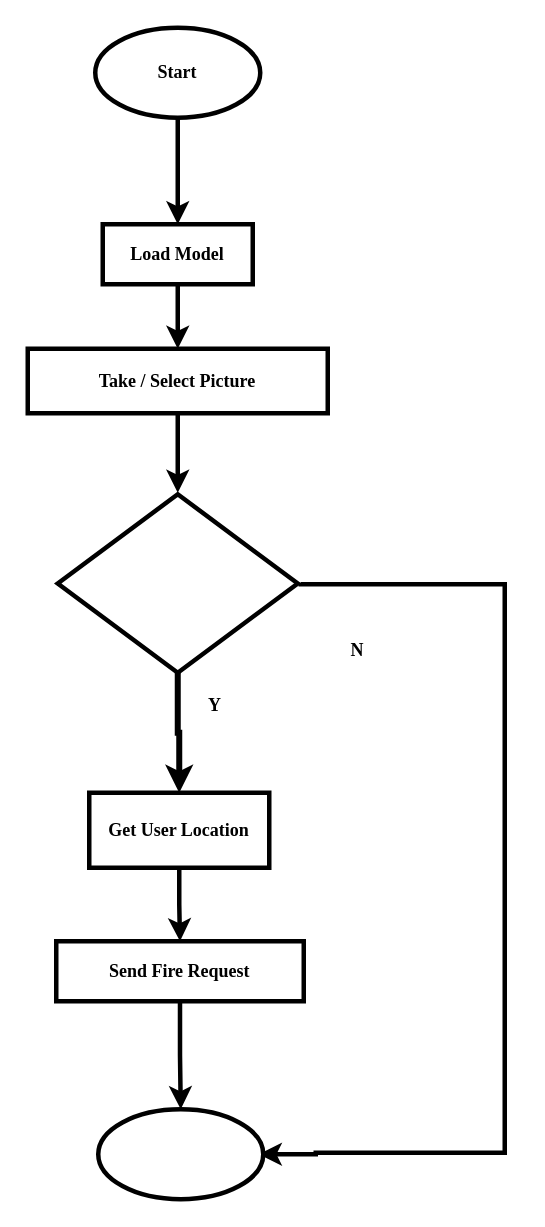
Image size: 545x1227. Some labels were removed from this diagram. Here are the shapes that lost their labels. From the top down, the centre of each, then its label:
the point at 177,582: Detect Fire?
the point at 180,1153: Stop
